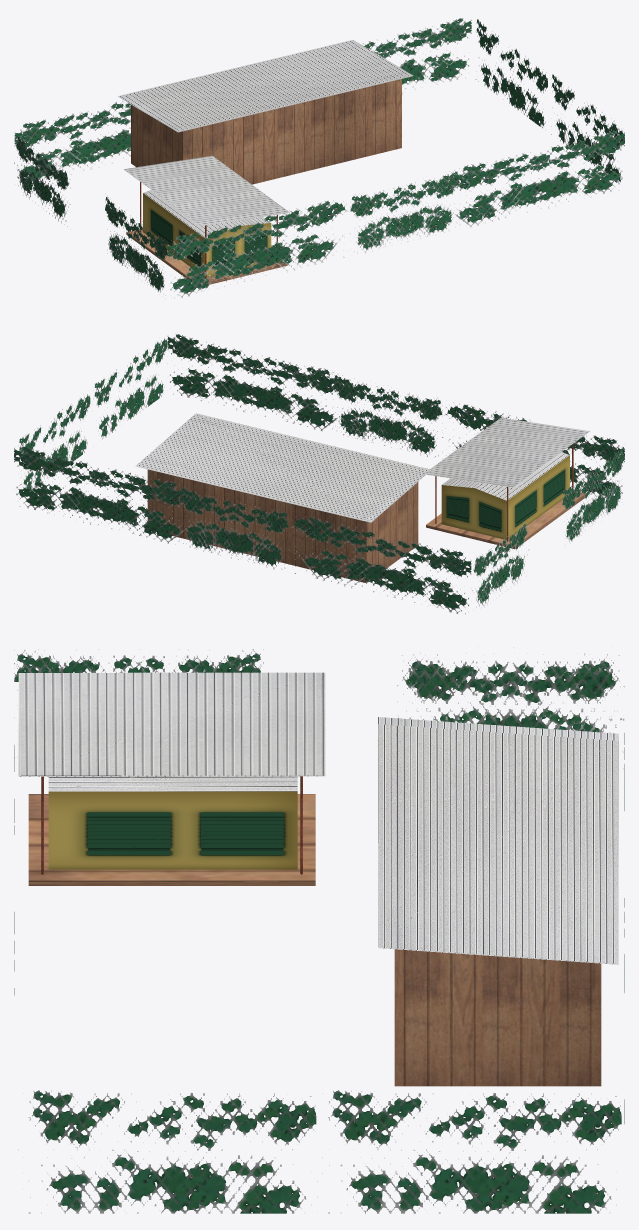
File: CasetaCompostaje.fbx
3 views of the same model, one above another, from view 1: azimuth 30°, elevation 25°; view 2: azimuth 150°, elevation 25°; view 3: azimuth 270°, elevation 25° (orthographic). The views are drawn at different scales.
Parts seen in each view (by area): view 1: polySurface46; view 2: polySurface46; view 3: polySurface46.
Boxes of the visible parts, x1,y1,x2,y2 form: polySurface46: (14, 18, 624, 298); polySurface46: (14, 334, 624, 614); polySurface46: (14, 647, 624, 1213).
Bounding box in the file's own units: 356 × 57.9 × 207.
Materials: 1 (1 with a texture image).
